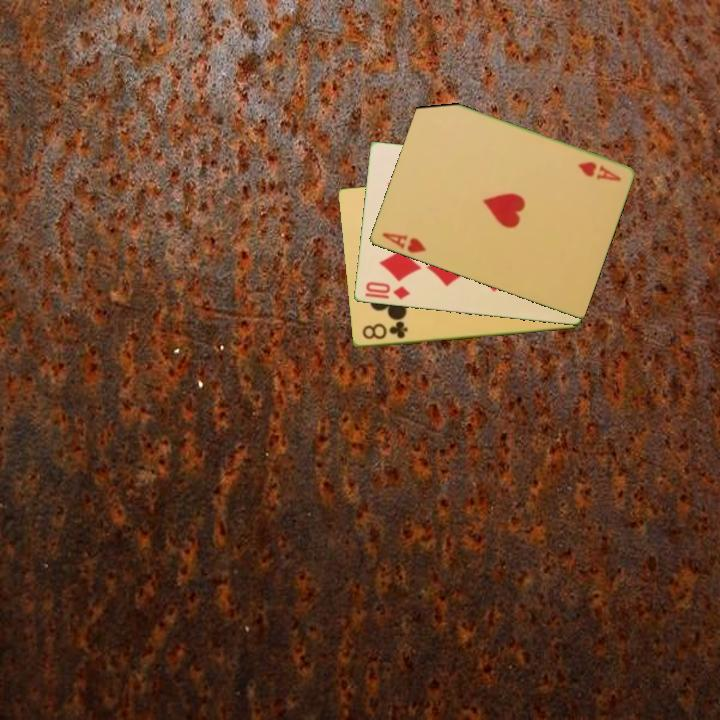10d: (362, 278, 412, 302)
8c: (359, 319, 410, 343)
Ah: (378, 229, 428, 256), (574, 158, 623, 184)
